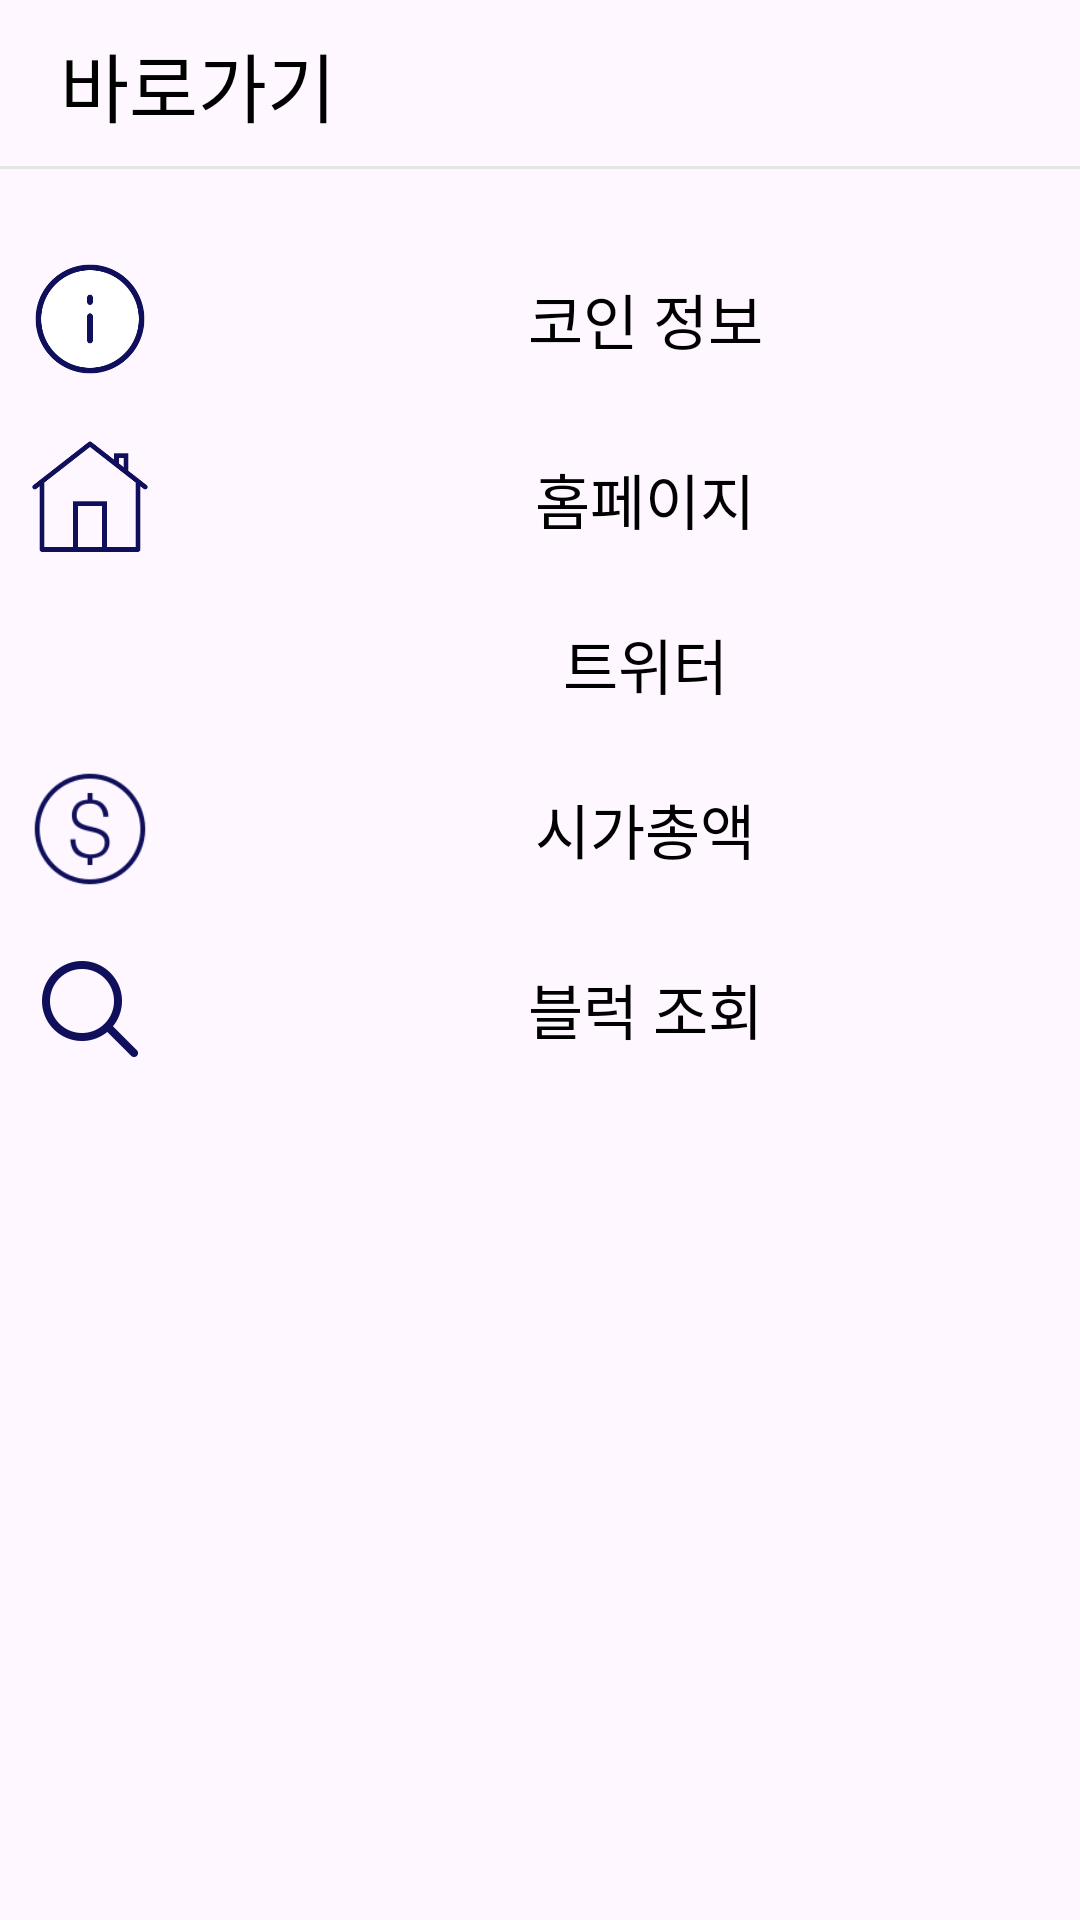

Icons on this 1080w x 1920h Android screen, each with its box as (x1, y1, x2, y2):
amount: (34, 773, 146, 885)
homepage: (32, 441, 148, 552)
info: (35, 264, 145, 374)
